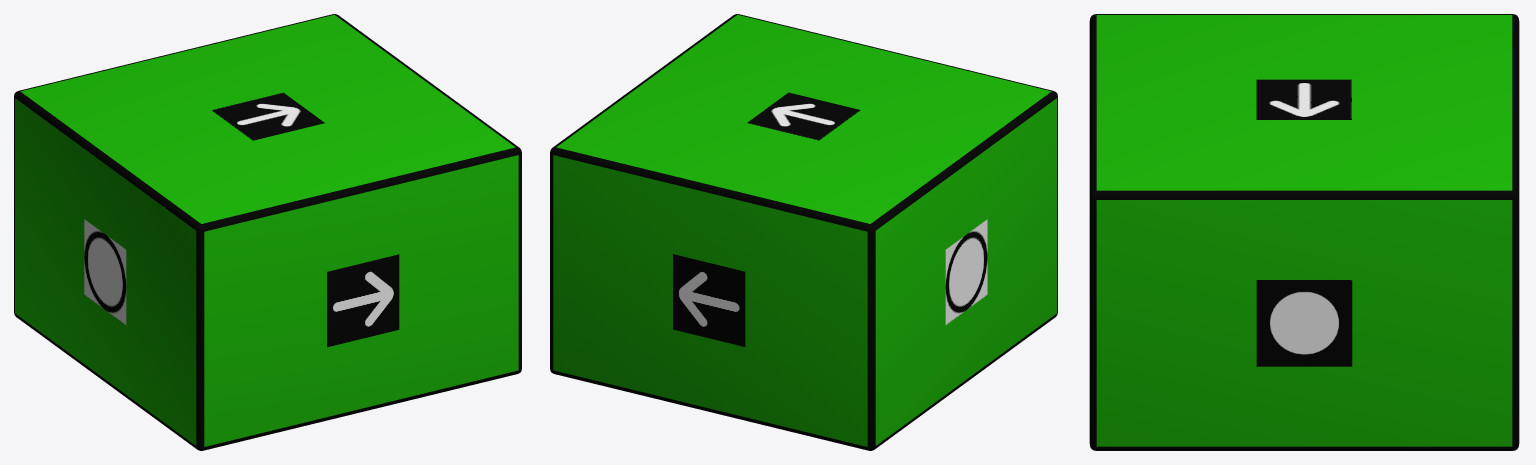
Rendered from BigBoxTapFlowBox_3_2_3_Line.fbx.
3 renders of one model, left to right at view 1: azimuth 30°, elevation 25°; view 2: azimuth 150°, elevation 25°; view 3: azimuth 270°, elevation 25°, orthographic. The views are drawn at different scales.
Visible parts, largest first — view 1: BigBoxTapFlowBox_3_2_3; view 2: BigBoxTapFlowBox_3_2_3; view 3: BigBoxTapFlowBox_3_2_3.
Boxes of the visible parts, <box> form: BigBoxTapFlowBox_3_2_3: <box>14,14,521,450</box>; BigBoxTapFlowBox_3_2_3: <box>550,14,1057,450</box>; BigBoxTapFlowBox_3_2_3: <box>1089,14,1519,450</box>.
Bounding box in the file's own units: 3.15 × 2.14 × 3.18.
Materials: 1 (1 with a texture image).
